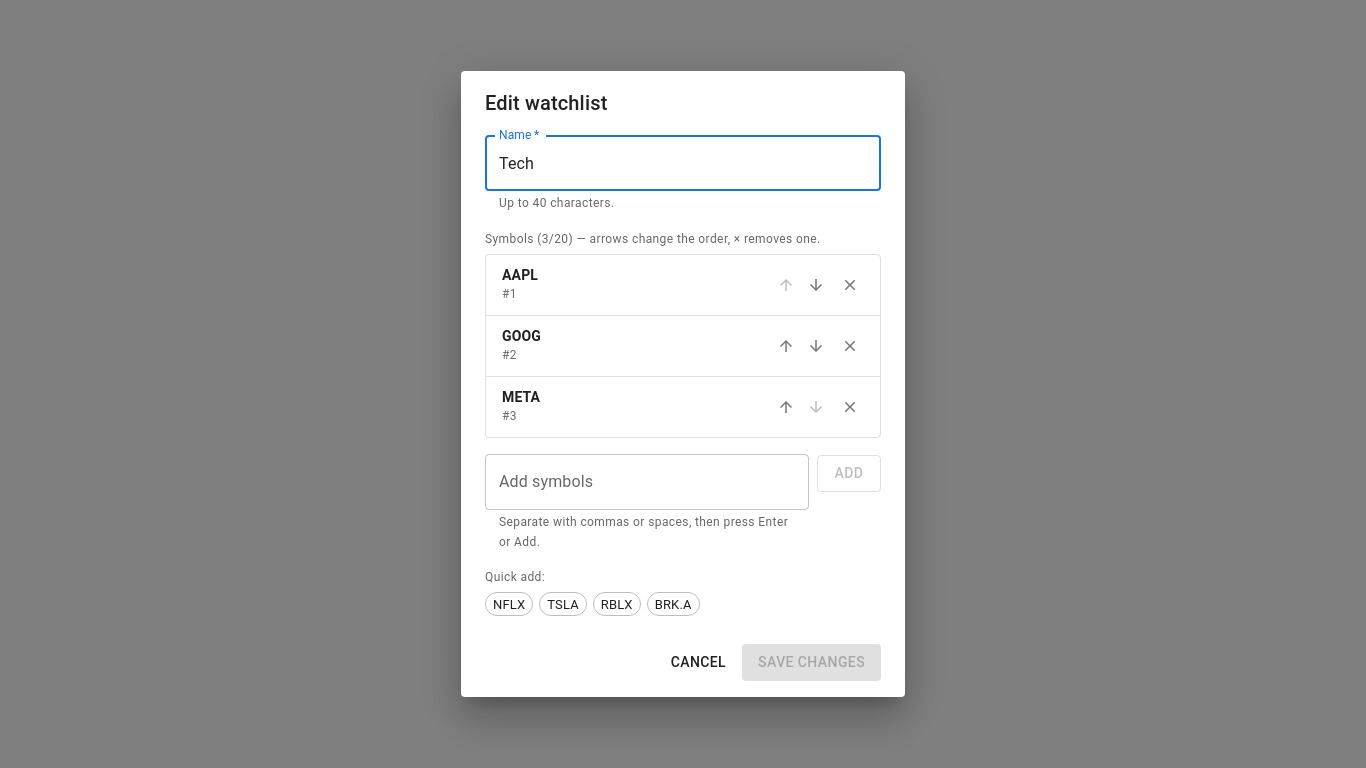
Test: EditWatchlistDialog › shows a storage failure as an alert and stays open
Step 1. Click the button named "Move META up" → x=786, y=407, box [772,393,800,421]
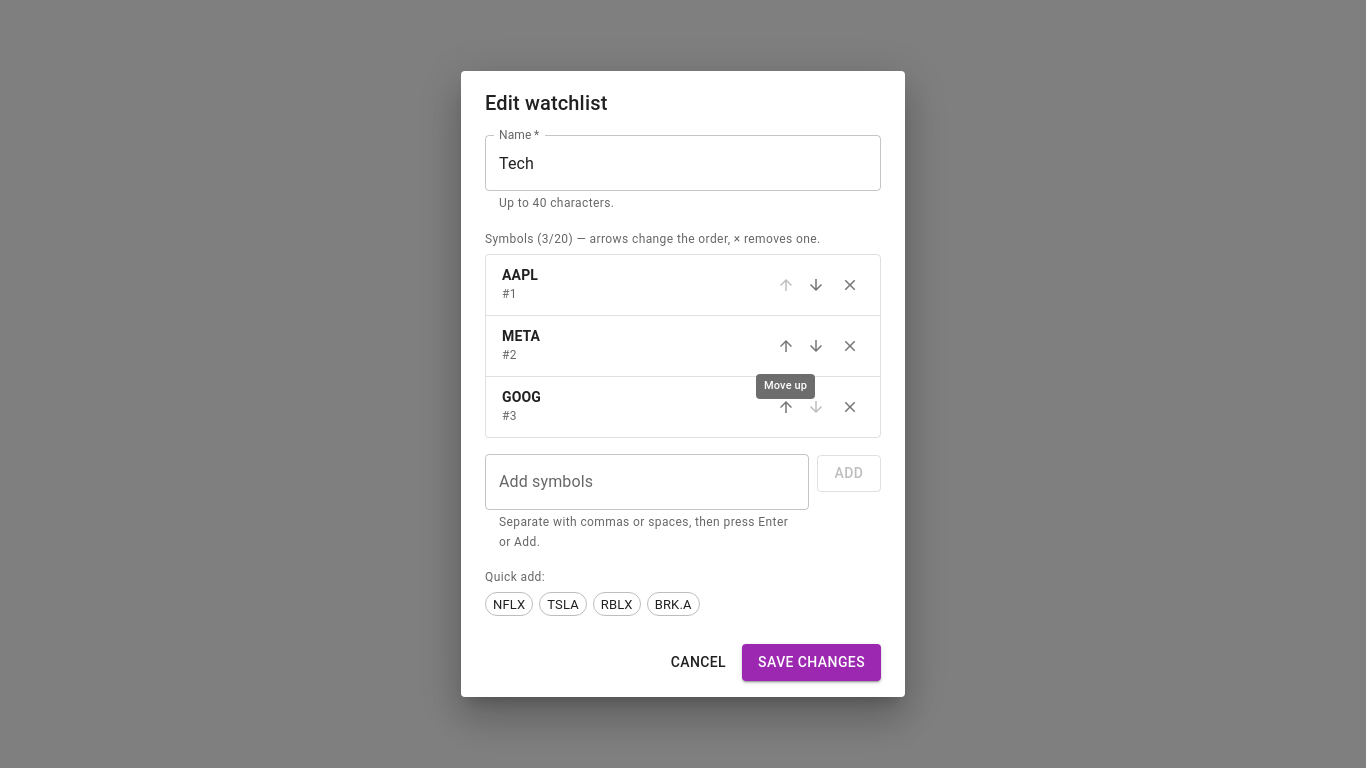
Step 2. Click the button with test id "save-watchlist-edit" → x=812, y=663, box [742,644,881,681]
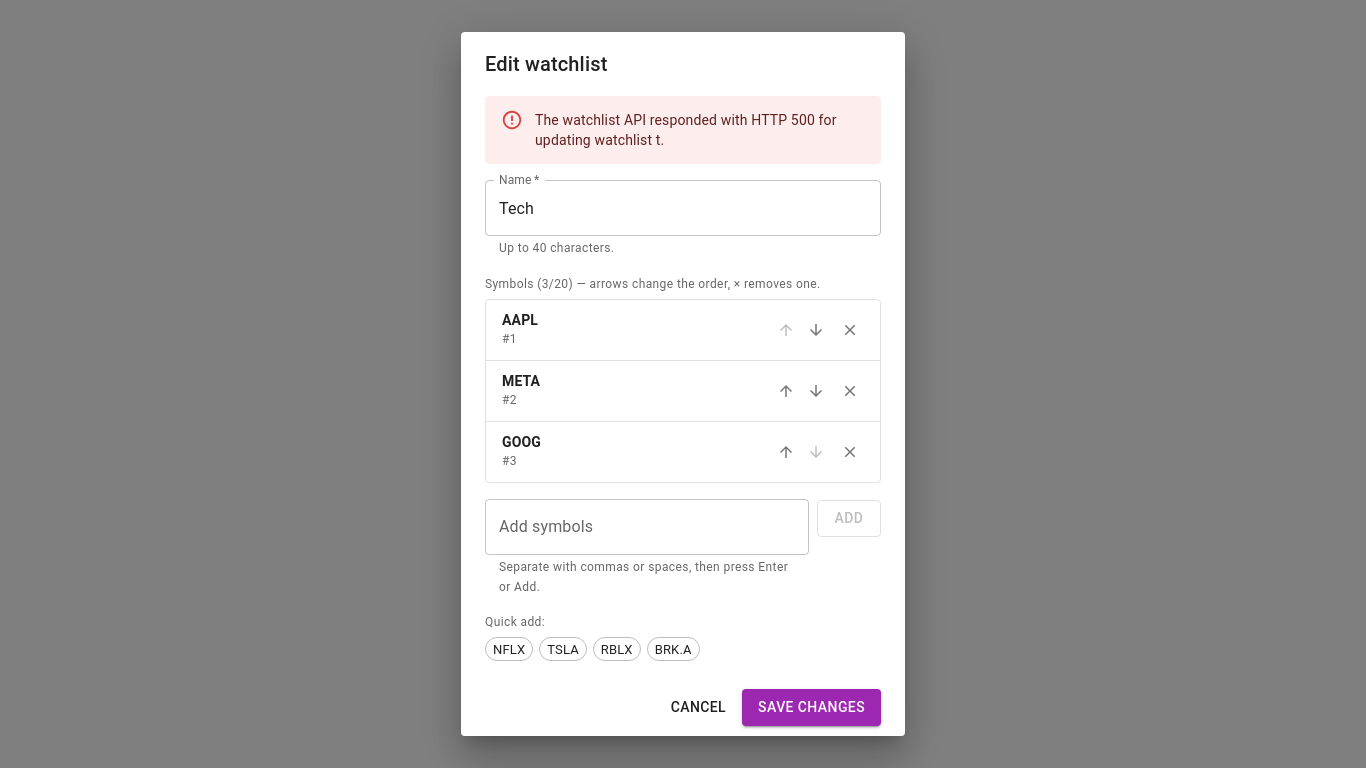
Check: the button with test id "save-watchlist-edit" is enabled, box [742,689,881,726]
Check: the message with test id "watchlist-save-error" shows "HTTP 500", box [535,112,837,148]
